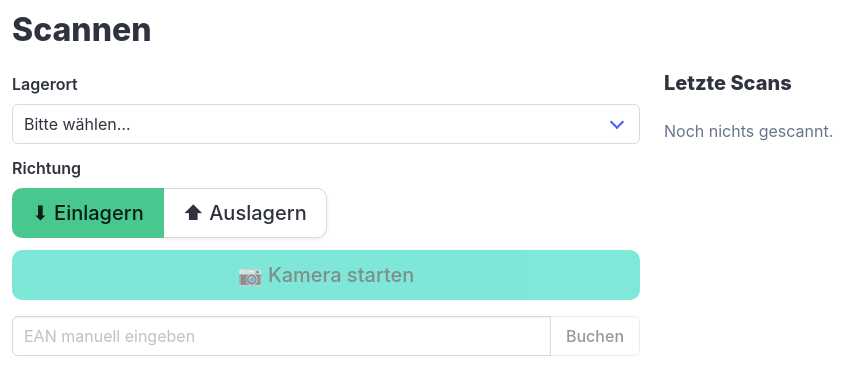
Test: ScanPage › works without local storage
Expected: the button "📷 Kamera starten" is disabled, [12,250,640,300]
Step 1. Select "Keller" in the dropdown named "Lagerort" → (326, 124), box [12,104,640,144]
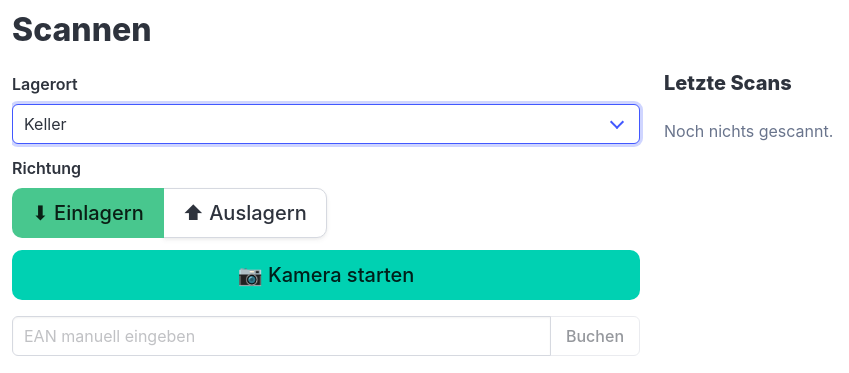
Expected: the button "📷 Kamera starten" is enabled, [12,250,640,300]
Step 2. Select "Bitte wählen…" in the dropdown named "Lagerort" → (326, 124), box [12,104,640,144]
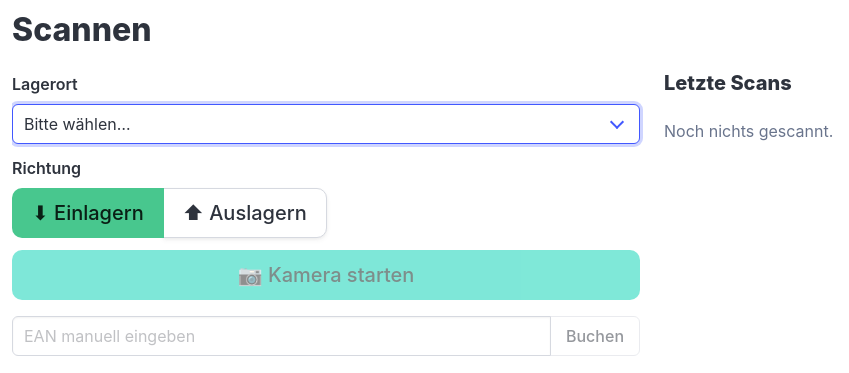
Expected: the button "📷 Kamera starten" is disabled, [12,250,640,300]
